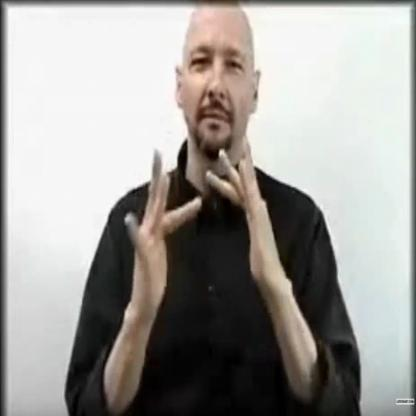Internet: (117, 142, 292, 314)
